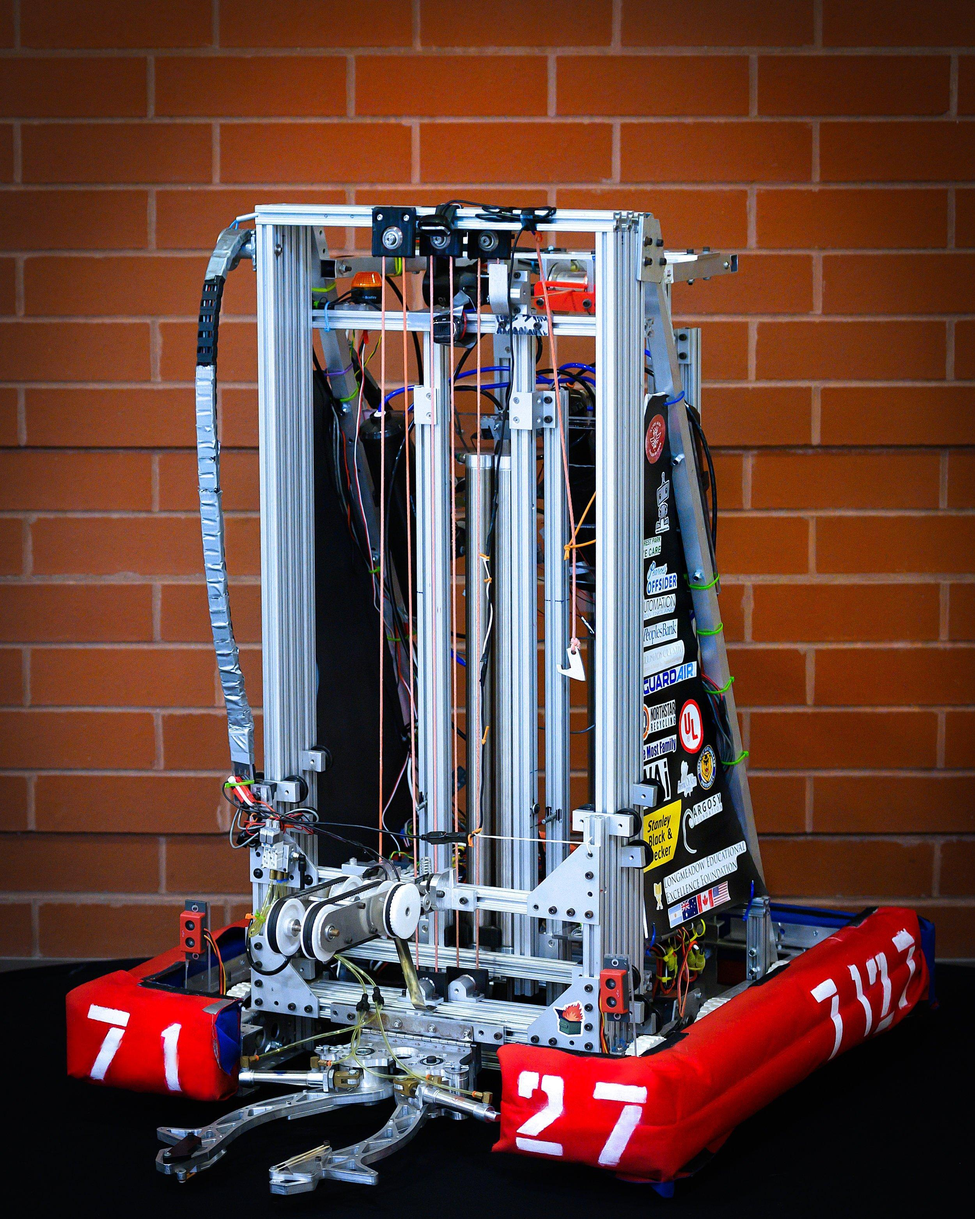robot: (59, 182, 942, 1207)
